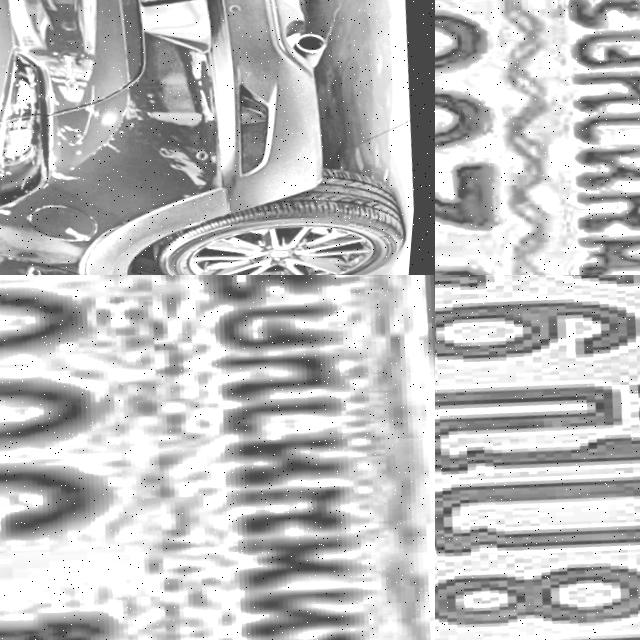license-plate: (0, 275, 435, 640), (435, 275, 640, 640), (435, 0, 640, 275)
